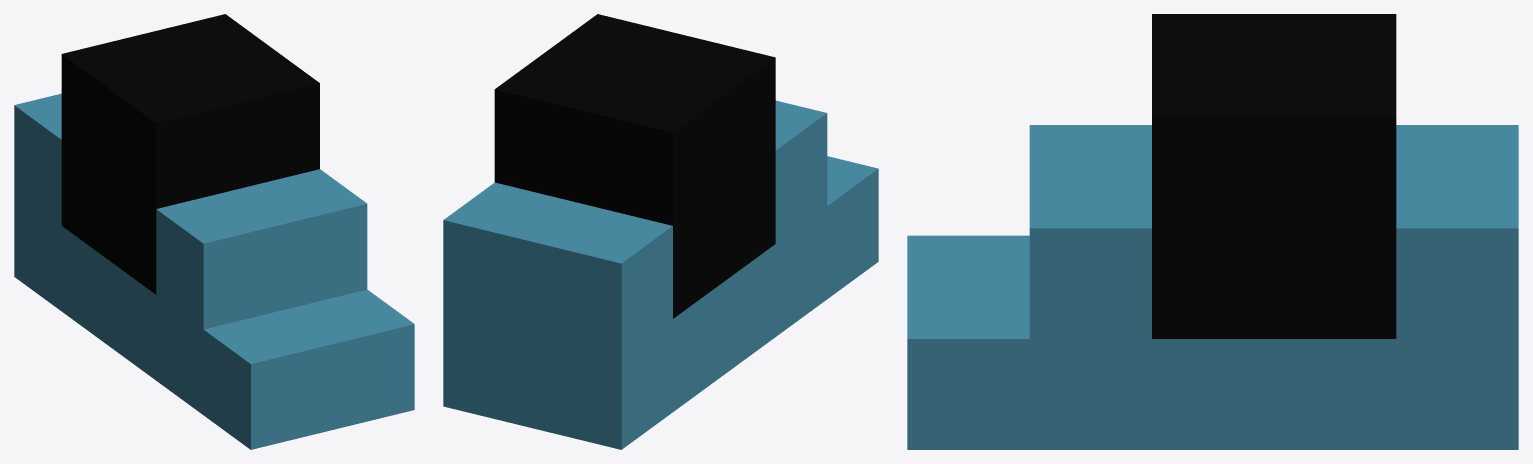
The model's file is pernarobo.obj.
3 views of the same model, side by side, from view 1: azimuth 30°, elevation 25°; view 2: azimuth 150°, elevation 25°; view 3: azimuth 270°, elevation 25° (orthographic). The views are drawn at different scales.
Size of the model in its own units: 0.2 by 0.3 by 0.5.
1 material, 1 textured.
